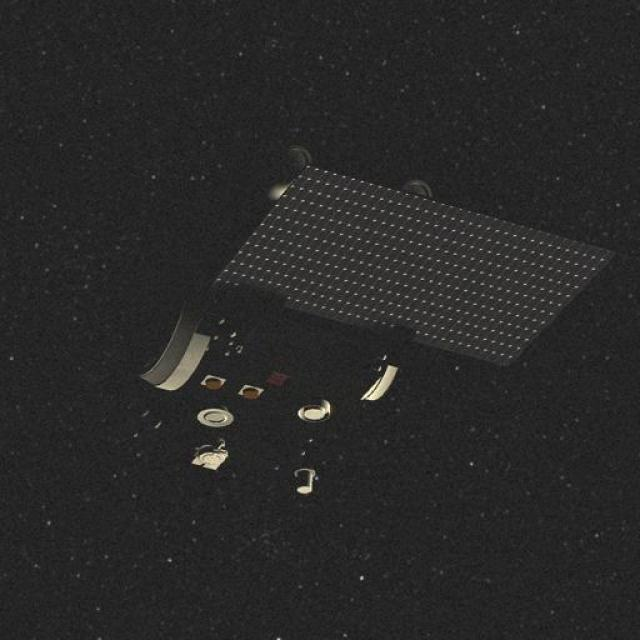proba_3_csc: (130, 154, 582, 519)
